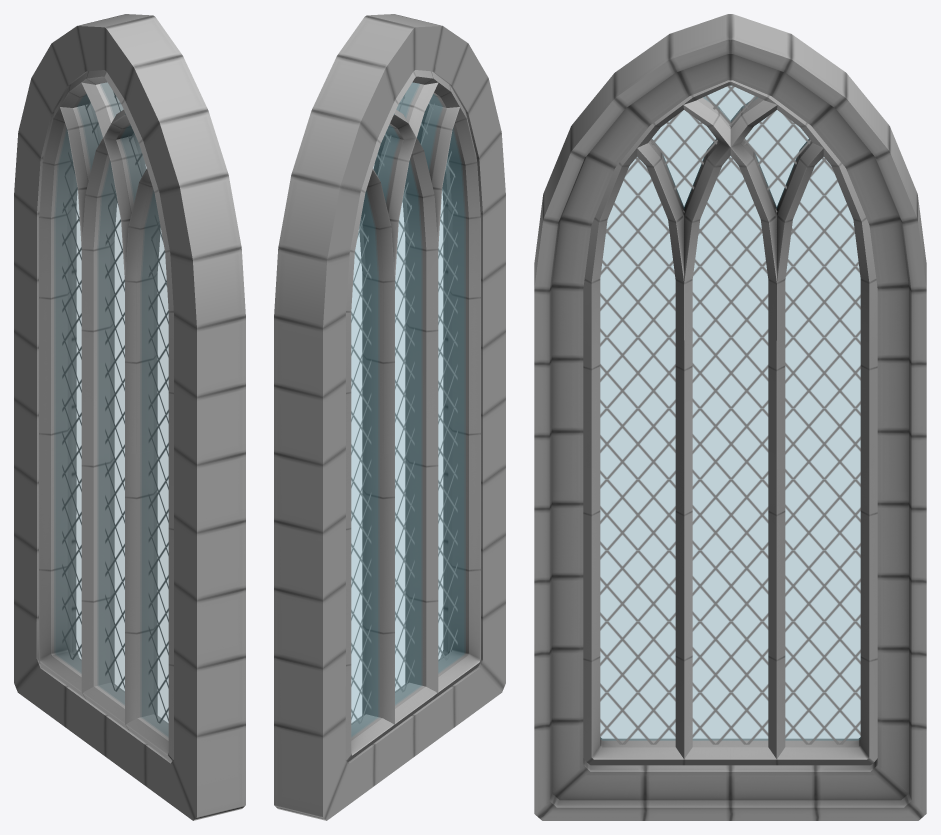
Rendered from window.glb.
3 renders of one model, left to right at view 1: azimuth 30°, elevation 25°; view 2: azimuth 150°, elevation 25°; view 3: azimuth 270°, elevation 25°, orthographic. The views are drawn at different scales.
Visible parts, largest first — view 1: Object_3, Object_2, Object_4; view 2: Object_3, Object_2, Object_4; view 3: Object_3, Object_2, Object_4.
Part boxes in pixels (x1,y1,x2,y2): Object_3: (14, 14, 245, 820); Object_2: (54, 82, 168, 736); Object_4: (62, 92, 168, 723); Object_3: (274, 14, 505, 820); Object_2: (351, 82, 465, 736); Object_4: (351, 93, 457, 723); Object_3: (534, 14, 926, 820); Object_2: (600, 86, 860, 740); Object_4: (600, 85, 860, 744).
Size of the model in its own units: 3.02 by 41.04 by 18.68.
Materials: 3 (2 with a texture image).
